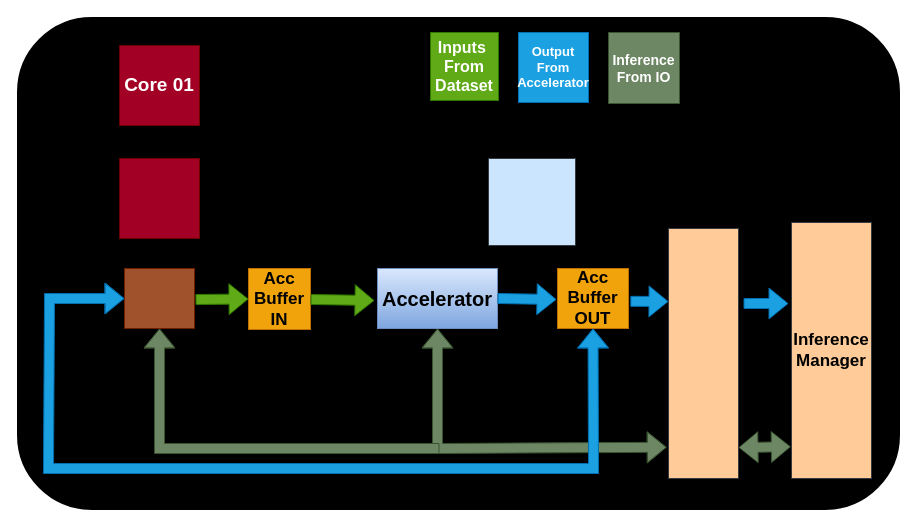
Image size: 917x527. Some labels were removed from this diagram. Each missing label, with the centre of its shape:
"Core 02" goes at (x=159, y=198).
"DMA" goes at (x=159, y=298).
"Inference Controller" goes at (x=532, y=202).
"IO Control + Buffer" goes at (x=703, y=353).
